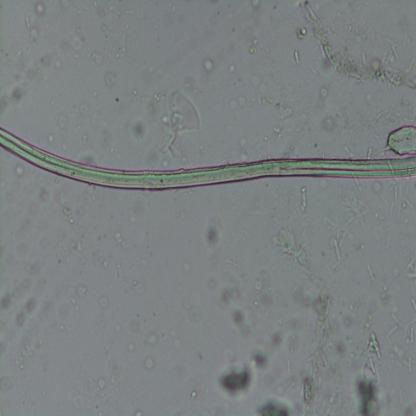Background material: (297, 3, 416, 94), (296, 291, 334, 415), (158, 86, 202, 166), (274, 228, 326, 289), (83, 5, 127, 70), (0, 255, 35, 334), (349, 330, 381, 414), (69, 95, 113, 145), (11, 42, 57, 89), (226, 91, 294, 120), (369, 181, 414, 224), (40, 177, 77, 226), (261, 312, 300, 356), (213, 360, 255, 400), (263, 114, 321, 142), (173, 284, 206, 328), (340, 185, 370, 227), (251, 266, 279, 308), (384, 123, 416, 155), (320, 109, 359, 135), (60, 282, 92, 311), (18, 3, 47, 35), (384, 313, 416, 340), (232, 305, 253, 342), (255, 396, 294, 415), (360, 135, 388, 161), (200, 220, 223, 250), (391, 346, 414, 376), (62, 30, 87, 57), (330, 226, 346, 268), (7, 82, 29, 105), (407, 255, 416, 310), (40, 123, 58, 148), (233, 135, 250, 161), (221, 285, 244, 304), (129, 118, 147, 142), (249, 352, 271, 369), (309, 86, 326, 108), (227, 62, 248, 77), (199, 58, 215, 76), (100, 372, 112, 396), (298, 188, 308, 216), (111, 231, 127, 247), (365, 262, 376, 282), (292, 46, 303, 66), (104, 72, 116, 90), (70, 237, 84, 252), (294, 23, 306, 40), (148, 331, 158, 349), (98, 296, 111, 309), (249, 38, 258, 56), (143, 357, 155, 370), (188, 388, 198, 402), (114, 319, 123, 334), (126, 338, 134, 353), (16, 169, 24, 181)
Microfibre: (0, 129, 416, 193)
